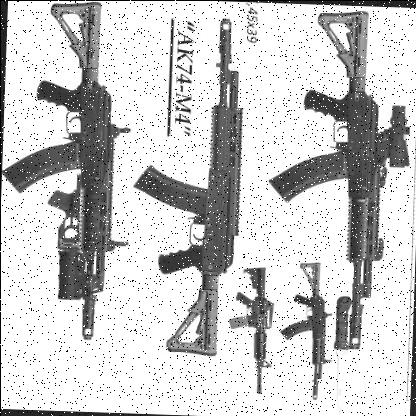rifle: (271, 2, 413, 355), (114, 9, 253, 361), (1, 0, 122, 343), (269, 256, 338, 400), (214, 262, 281, 397)
